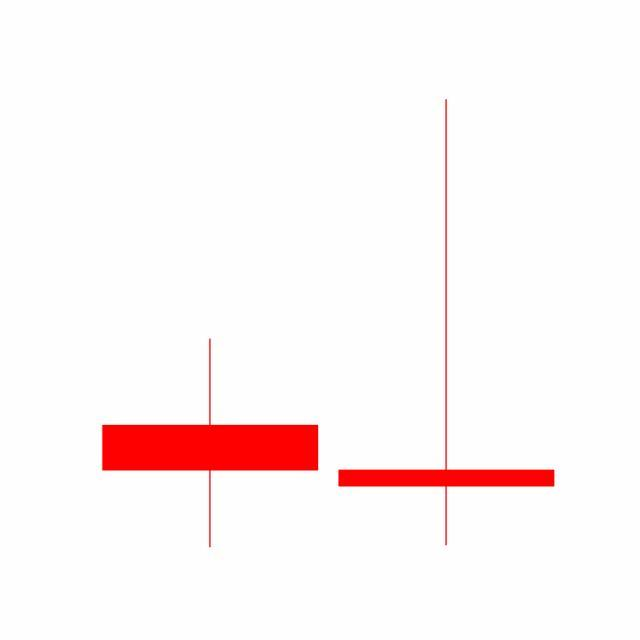Spinning Top: (328, 94, 566, 551)
